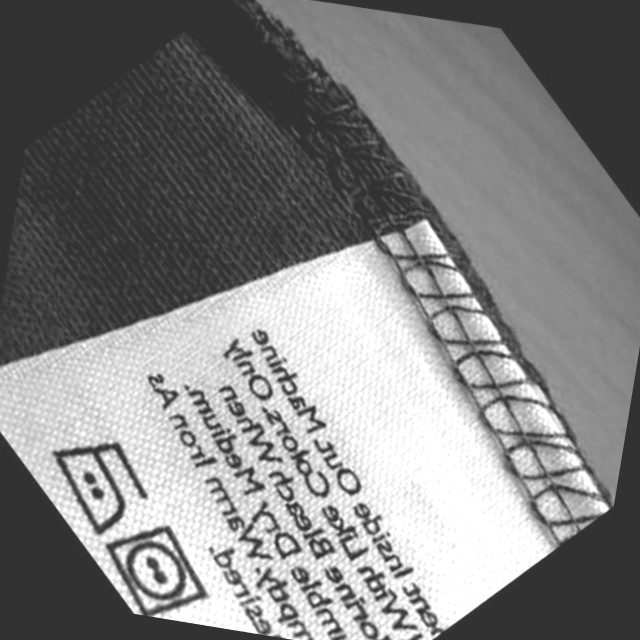iron_medium: (35, 430, 154, 539)
tumble_dry_medium: (93, 517, 216, 623)
